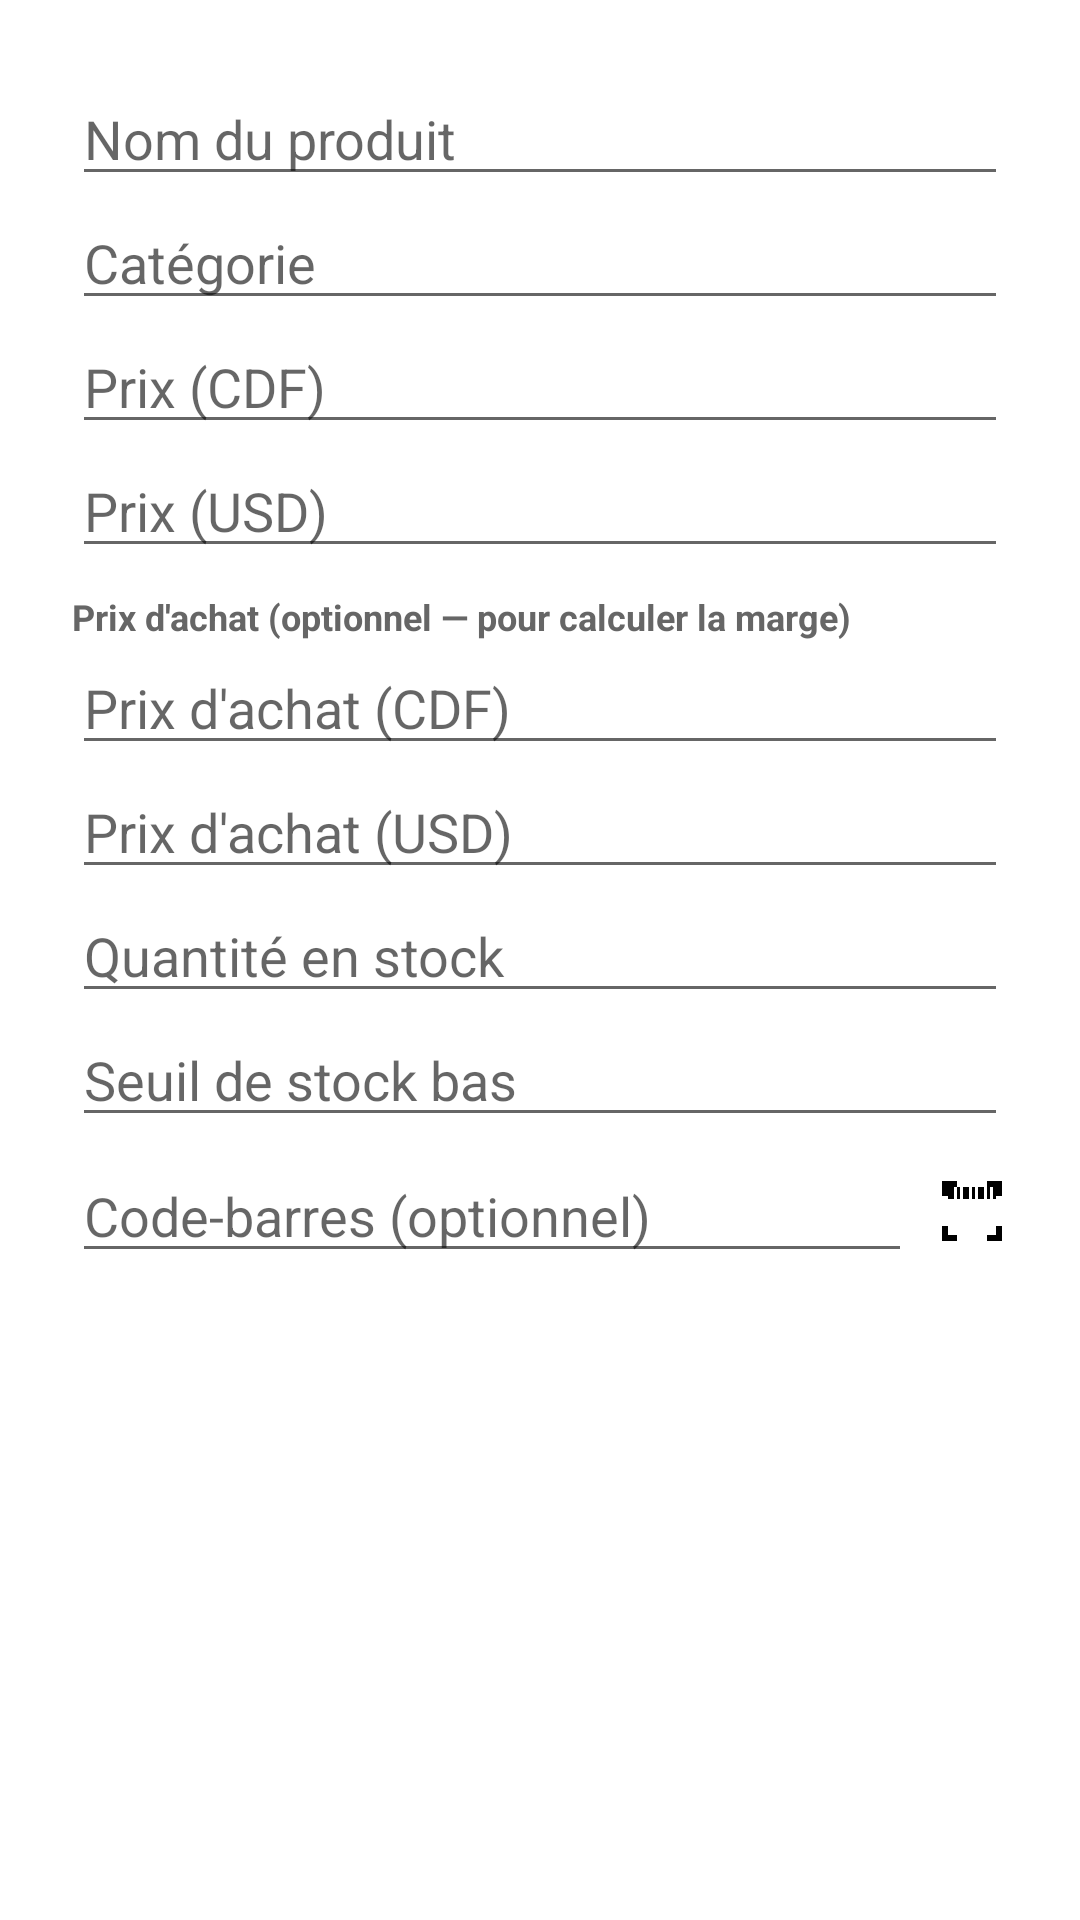

Icon click points for this 1080px×1920px phone screenshot, format [x,y]:
Scanner un code-barres: [972,1211]
